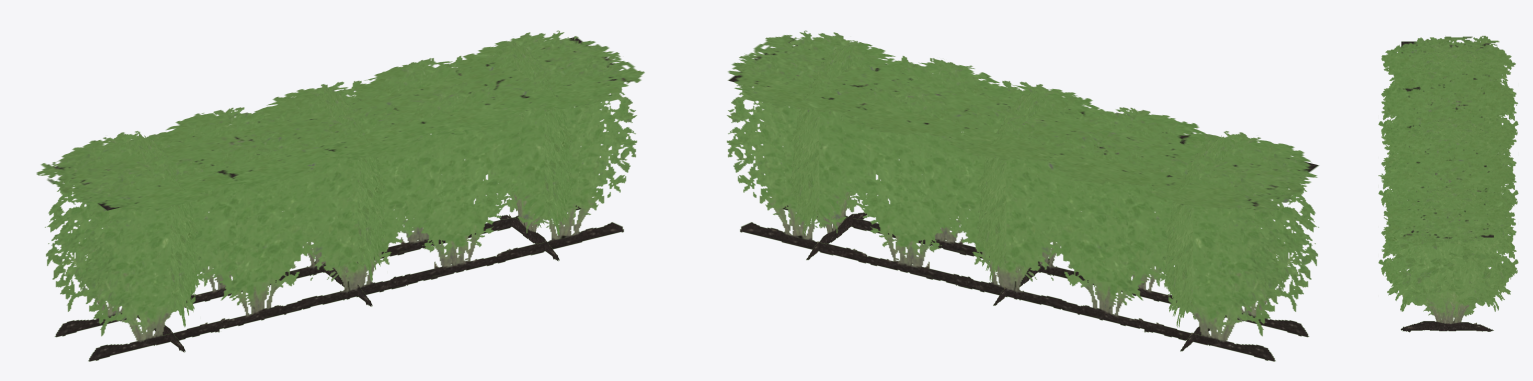
Rendered from soy-row-far.glb.
3 views of the same model, side by side, from view 1: azimuth 30°, elevation 25°; view 2: azimuth 150°, elevation 25°; view 3: azimuth 270°, elevation 25° (orthographic). The views are drawn at different scales.
Parts seen in each view (by area): view 1: cards; view 2: cards; view 3: cards.
Boxes of the visible parts, left/top/right/bottom form: cards: left=36, top=30, right=644, bottom=361; cards: left=726, top=30, right=1319, bottom=361; cards: left=1378, top=35, right=1518, bottom=332.
Bounding box in the file's own units: 2.14 × 0.7 × 0.6128.
1 material, 1 textured.
